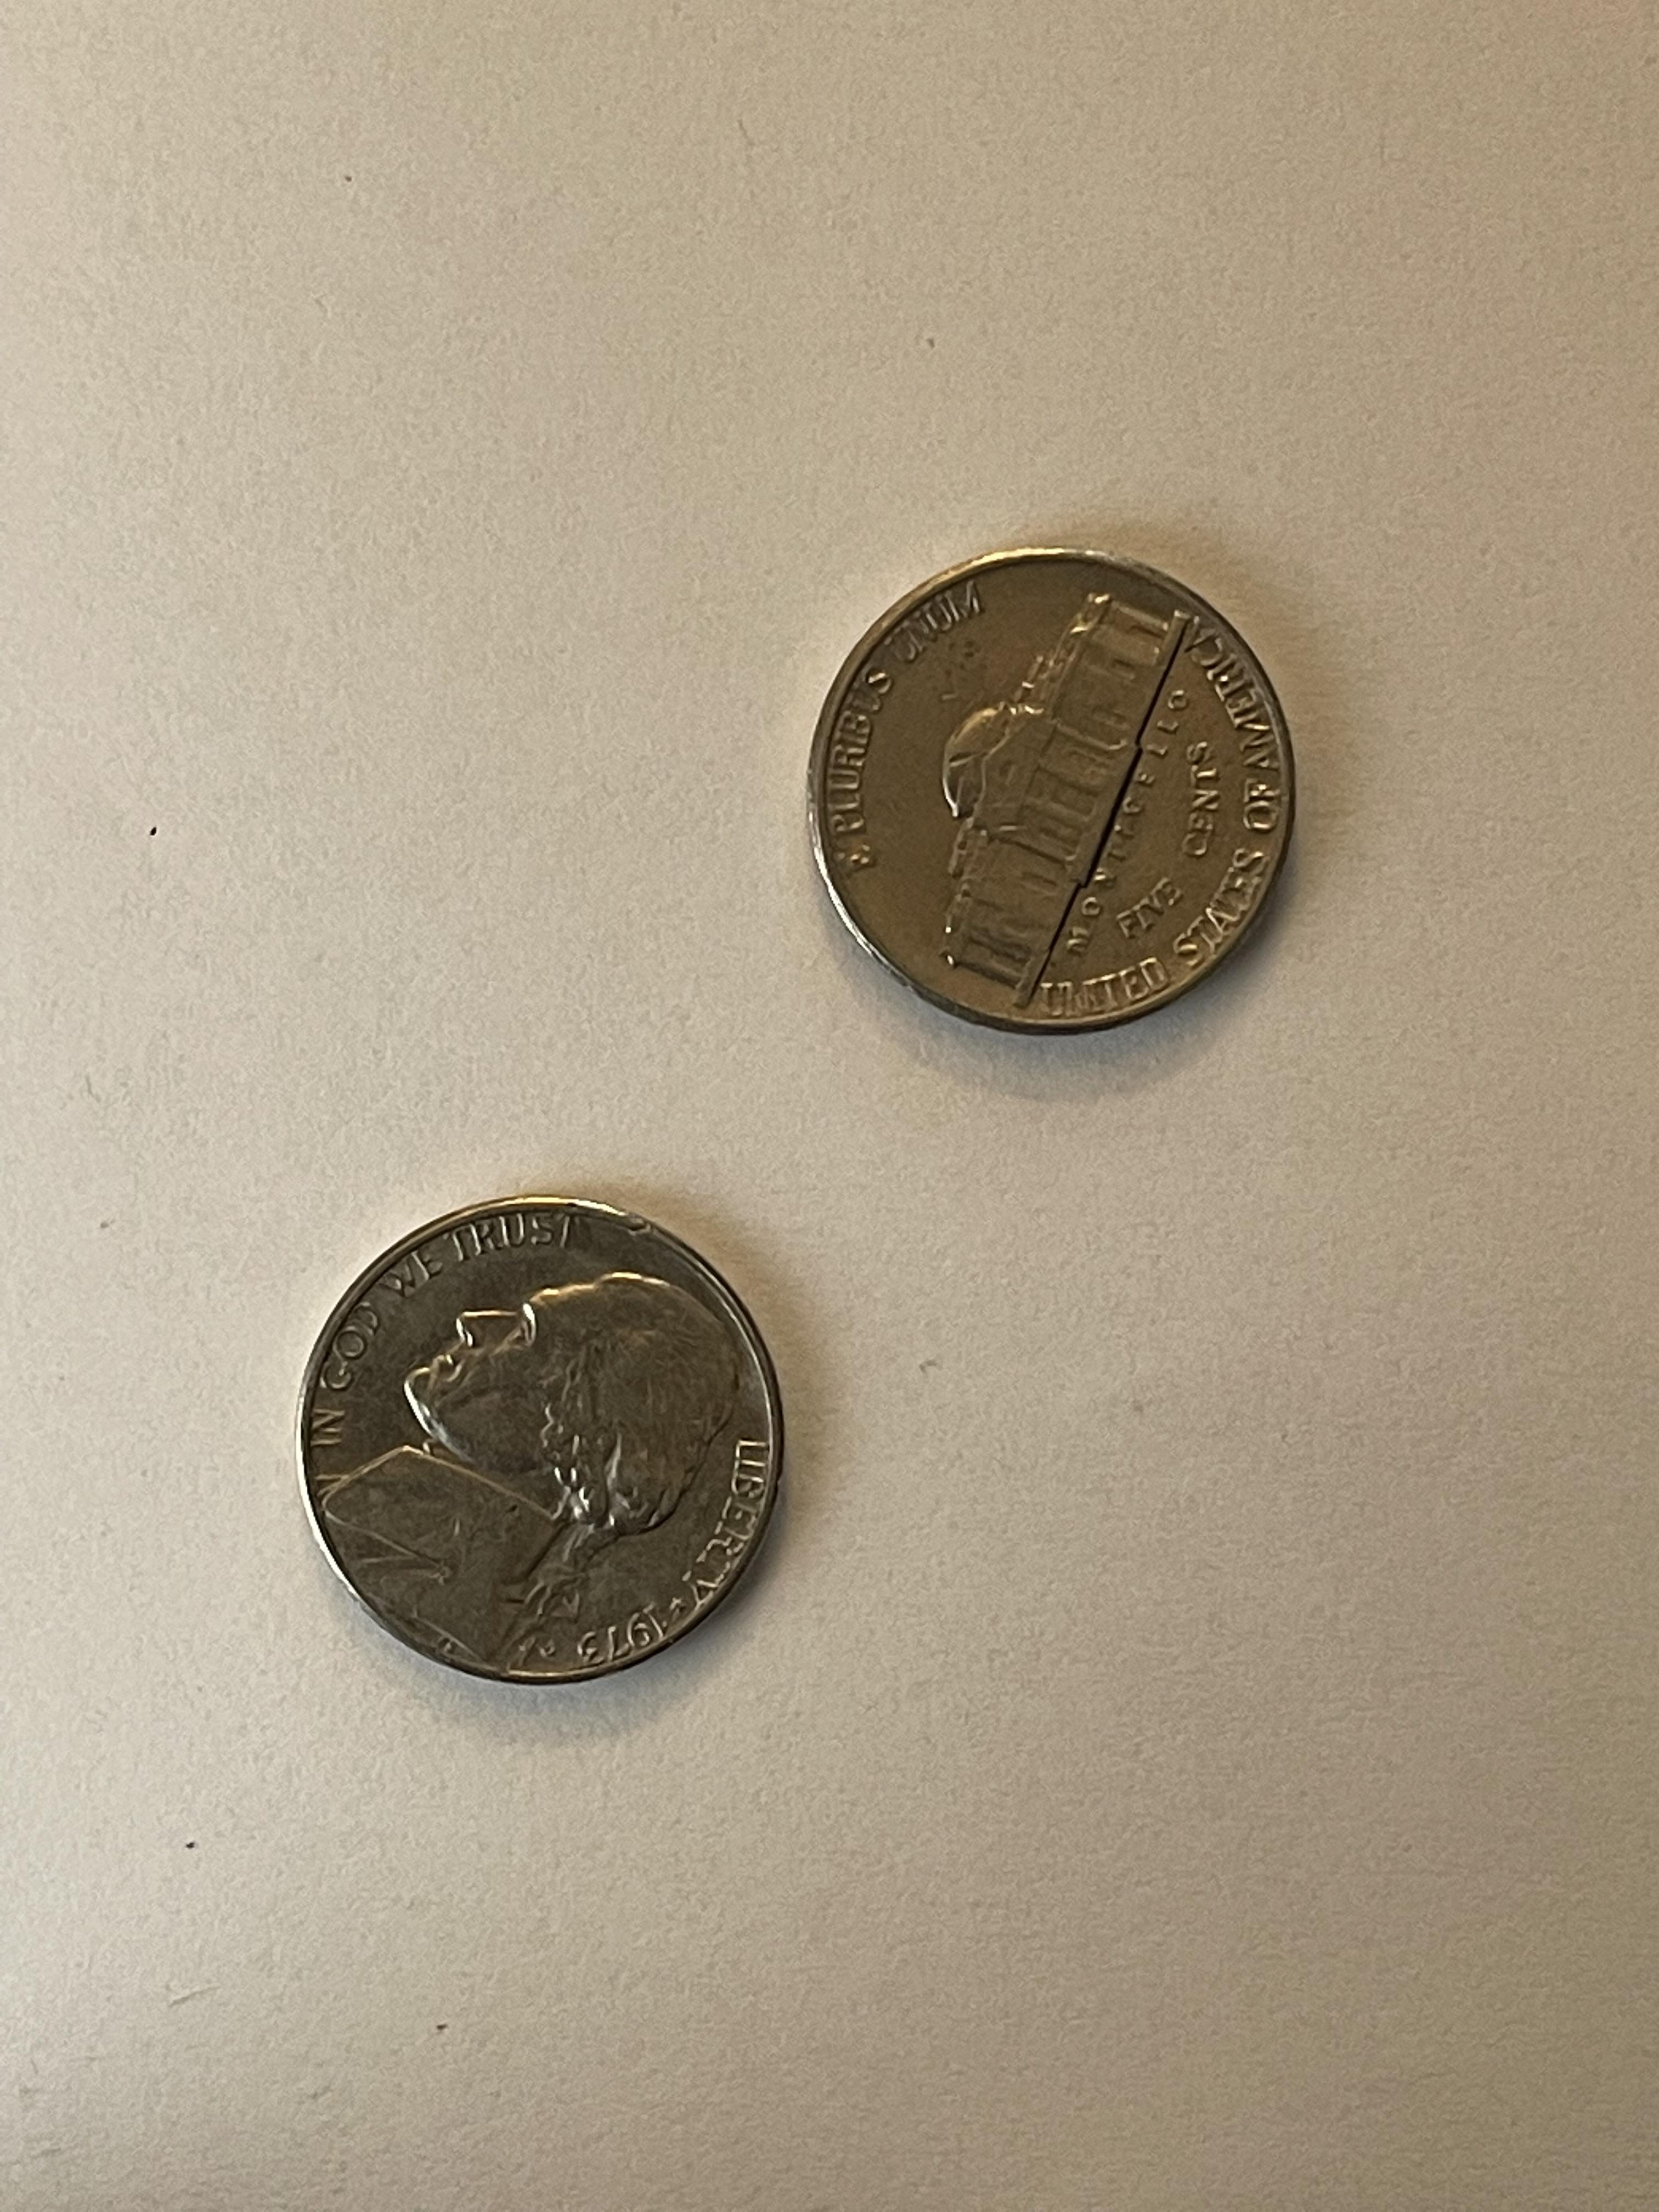Nickel: (802, 545, 1298, 1038), (293, 1191, 784, 1689)
